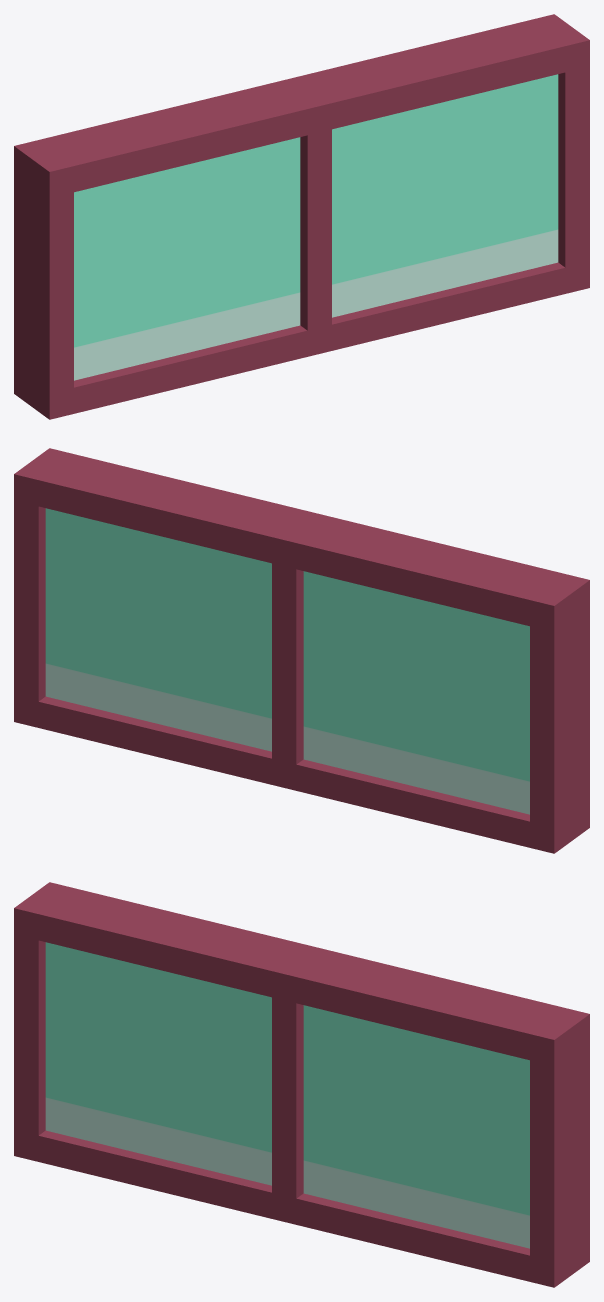
The model's file is Windows_geo.fbx.
The picture shows the model from 3 angles, top to bottom: view 1: azimuth 30°, elevation 25°; view 2: azimuth 150°, elevation 25°; view 3: azimuth 330°, elevation 25°; orthographic projection.
Parts seen in each view (by area): view 1: Windows_geo; view 2: Windows_geo; view 3: Windows_geo.
Boxes of the visible parts, bbox=[...] form: Windows_geo: bbox=[14, 14, 589, 419]; Windows_geo: bbox=[14, 448, 589, 853]; Windows_geo: bbox=[14, 882, 589, 1287].
Bounding box in the file's own units: 2.93 × 0.3341 × 1.28.
